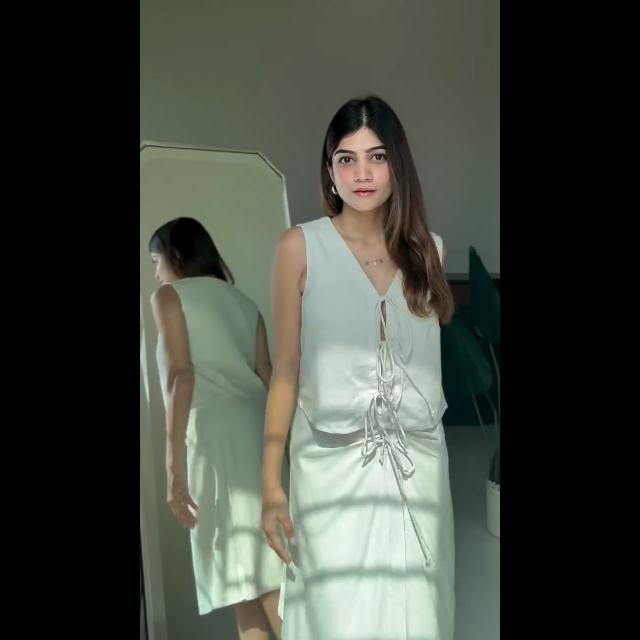dress: (300, 223, 456, 639)
ear ring: (330, 186, 338, 192)
